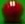brown: (0, 0, 25, 24)
